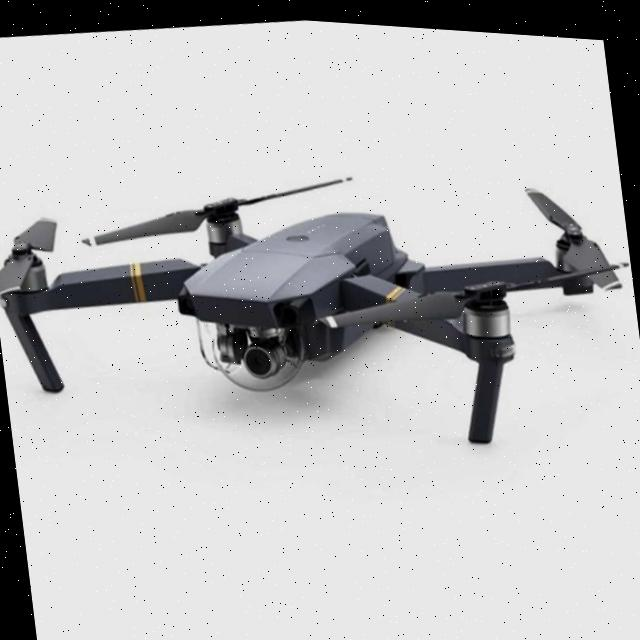drone: (0, 103, 640, 526)
